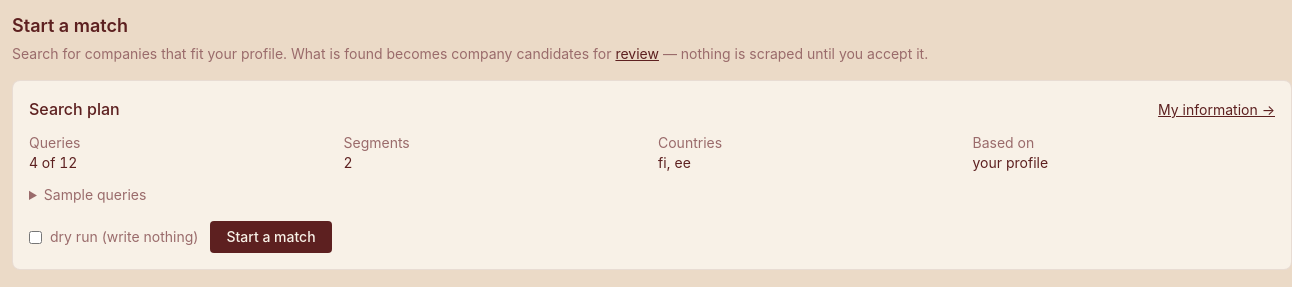
Test: start a match › shows the plan derived from the profile and starts a discover run
The image size is (1292, 287).
Check: the text "4 of 12" is shown, box left=29, top=154, right=77, bottom=171
Check: the text "fi, ee" is shown, box left=658, top=154, right=691, bottom=171
Step 1. Click the button "Start a match" → (271, 237), box left=210, top=221, right=332, bottom=253
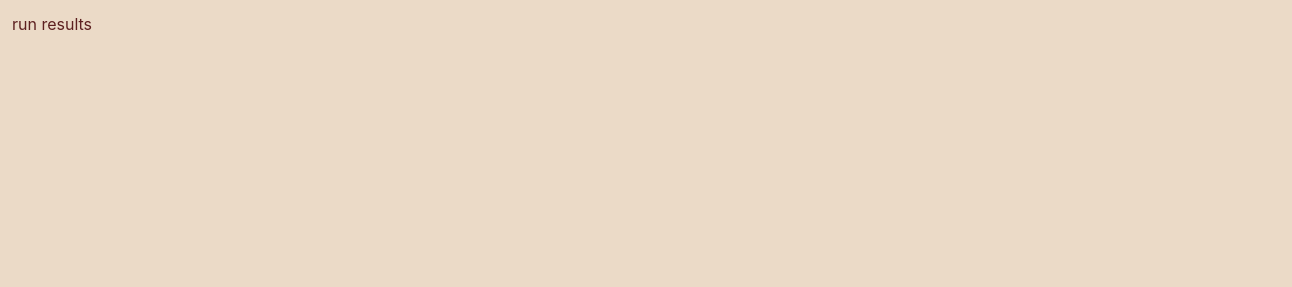
Check: the text "run results" is shown, box left=12, top=14, right=92, bottom=34
